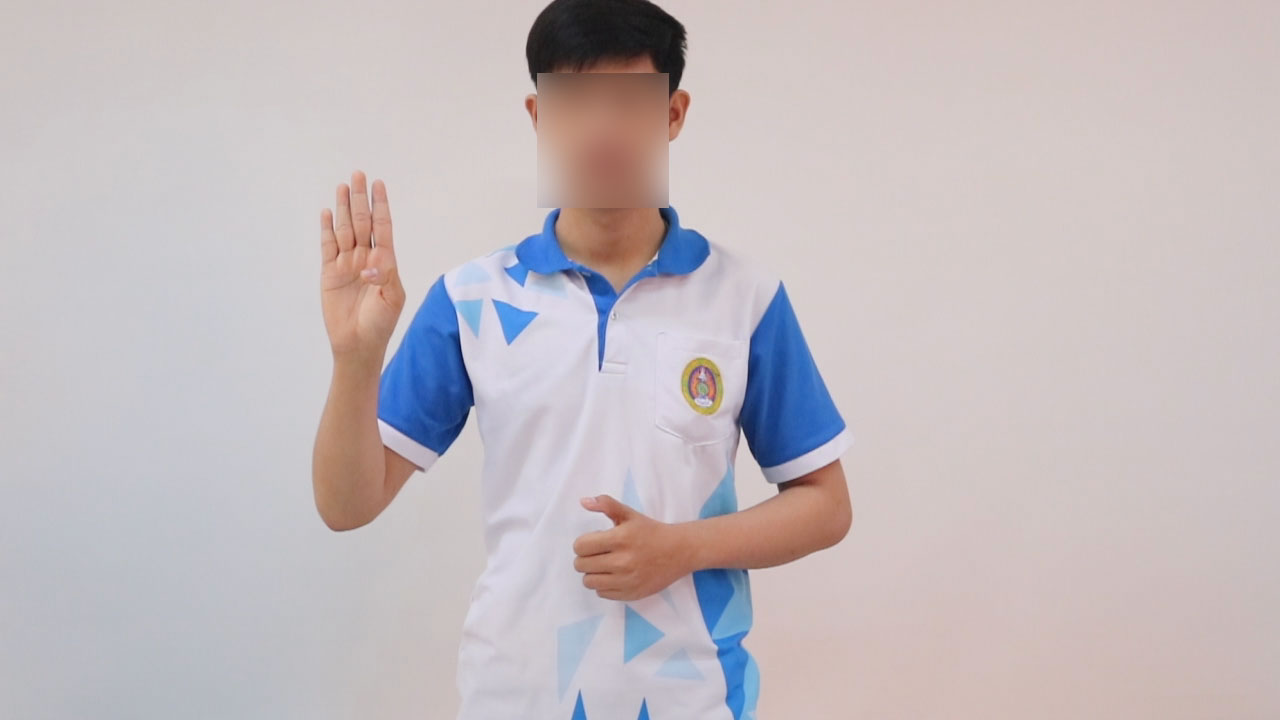bor: (298, 152, 423, 392)
